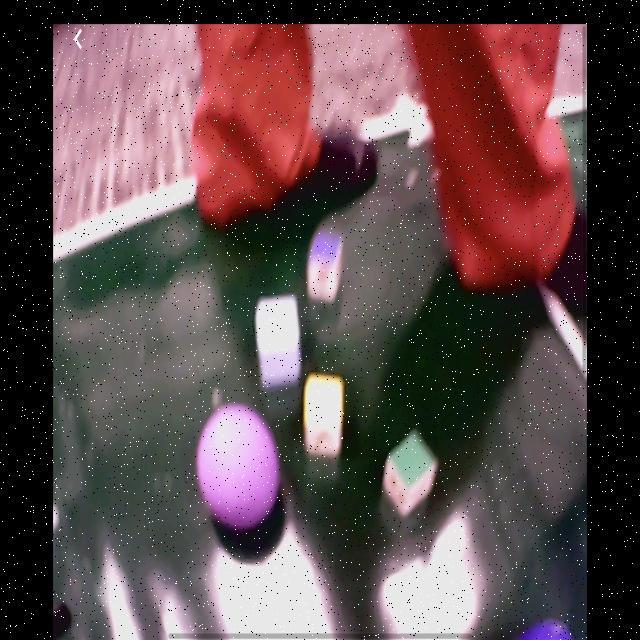ball: (198, 405, 282, 531), (518, 615, 580, 638)
